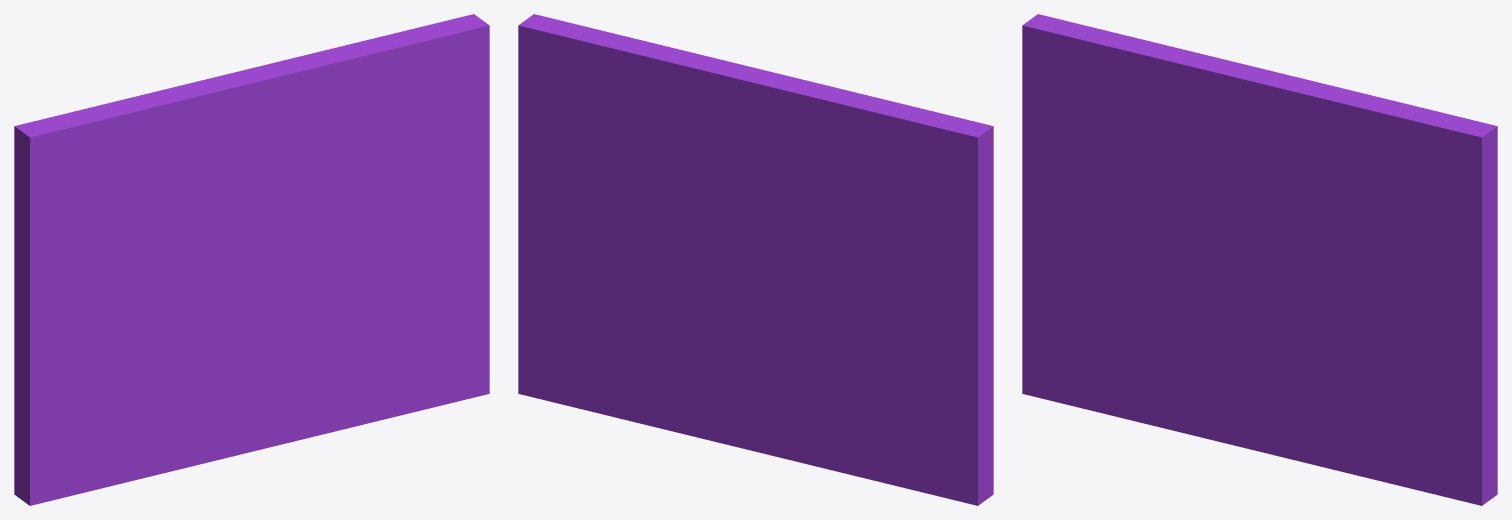
Rendered from Barrier_191_chunks.fbx.
The picture shows the model from 3 angles, left to right: view 1: azimuth 30°, elevation 25°; view 2: azimuth 150°, elevation 25°; view 3: azimuth 330°, elevation 25°; orthographic projection.
Parts seen in each view (by area): view 1: Barrier_191_0, Barrier_191_1, Barrier_191_3, Barrier_191_6, Barrier_191_5, Barrier_191_2; view 2: Barrier_191_0, Barrier_191_1, Barrier_191_6, Barrier_191_3, Barrier_191_5, Barrier_191_4; view 3: Barrier_191_0, Barrier_191_1, Barrier_191_6, Barrier_191_3, Barrier_191_5, Barrier_191_2.
Part boxes in pixels (x1=…): Barrier_191_0: x1=14, y1=106, x2=237, y2=505; Barrier_191_1: x1=197, y1=164, x2=489, y2=464; Barrier_191_3: x1=98, y1=81, x2=318, y2=255; Barrier_191_6: x1=198, y1=14, x2=489, y2=160; Barrier_191_5: x1=307, y1=62, x2=489, y2=246; Barrier_191_2: x1=229, y1=248, x2=286, y2=363; Barrier_191_0: x1=747, y1=107, x2=993, y2=505; Barrier_191_1: x1=518, y1=159, x2=809, y2=464; Barrier_191_6: x1=518, y1=14, x2=808, y2=155; Barrier_191_3: x1=698, y1=81, x2=916, y2=262; Barrier_191_5: x1=518, y1=73, x2=648, y2=218; Barrier_191_4: x1=594, y1=117, x2=699, y2=241; Barrier_191_0: x1=1022, y1=14, x2=1229, y2=434; Barrier_191_1: x1=1190, y1=260, x2=1497, y2=505; Barrier_191_6: x1=1207, y1=58, x2=1497, y2=189; Barrier_191_3: x1=1099, y1=34, x2=1311, y2=269; Barrier_191_5: x1=1299, y1=174, x2=1497, y2=275; Barrier_191_2: x1=1221, y1=237, x2=1278, y2=348.
Bounding box in the file's own units: 376 × 288 × 22.1.
